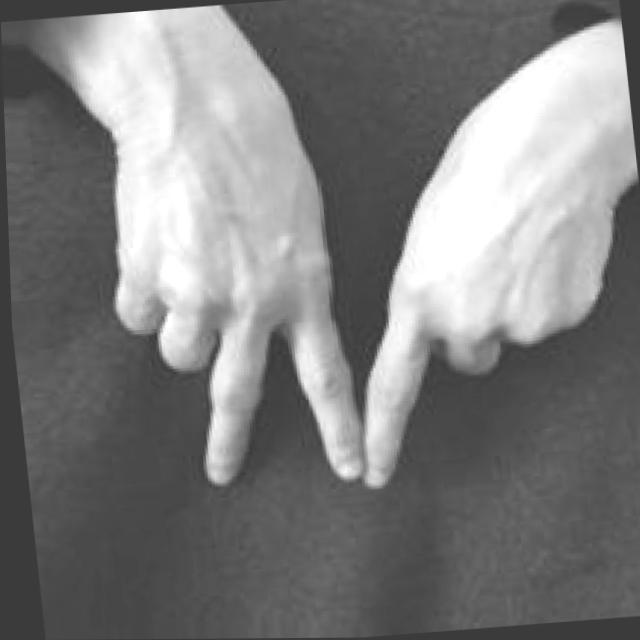N: (89, 96, 634, 518)
